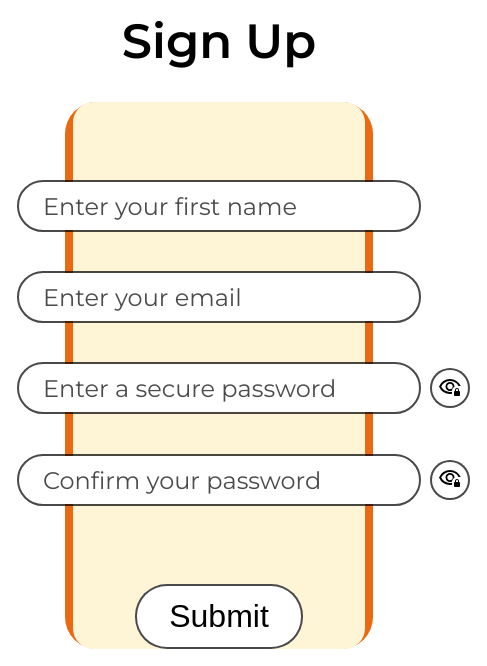
Test: SignUp Form Validation › should only allow letters in name
In the field with test id "name": (219, 206) [19,182,419,230], type "Max123"
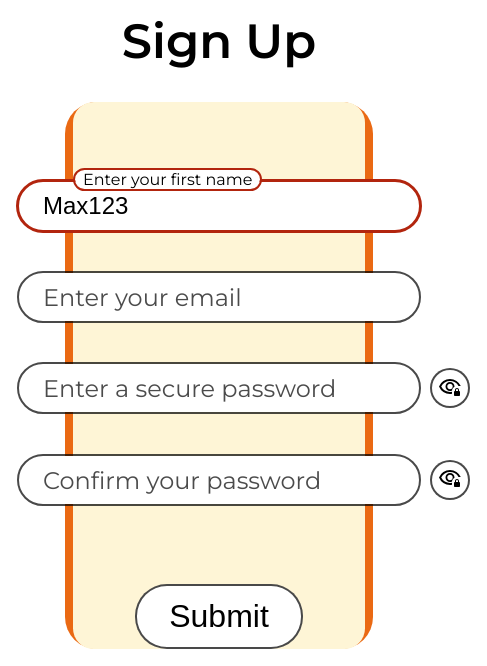
Click the button "Submit": (219, 616) [135,584,303,649]
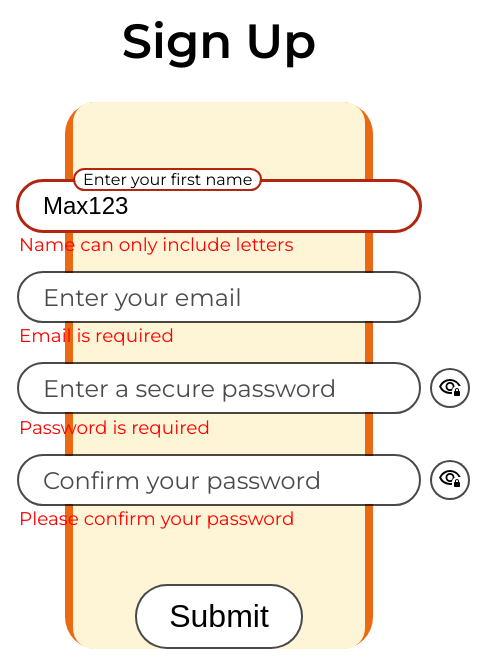
Result: the text "Name can only include letters" is shown at [19,233,293,256]
